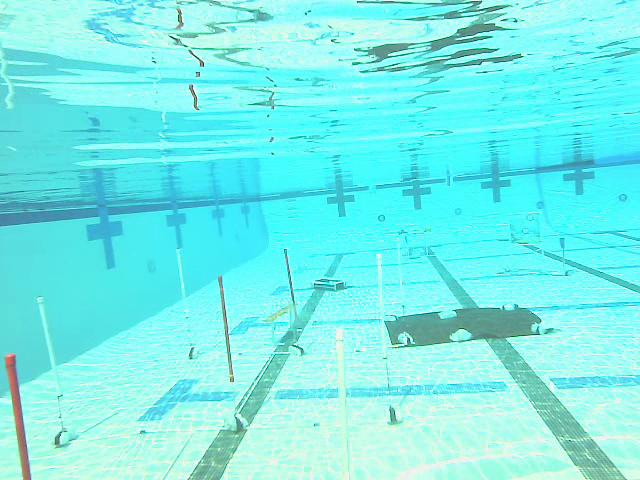black_poster: (206, 273, 254, 435), (275, 237, 317, 353)
white_poster: (28, 298, 80, 448), (369, 248, 401, 427), (165, 245, 209, 365), (390, 222, 416, 348)
